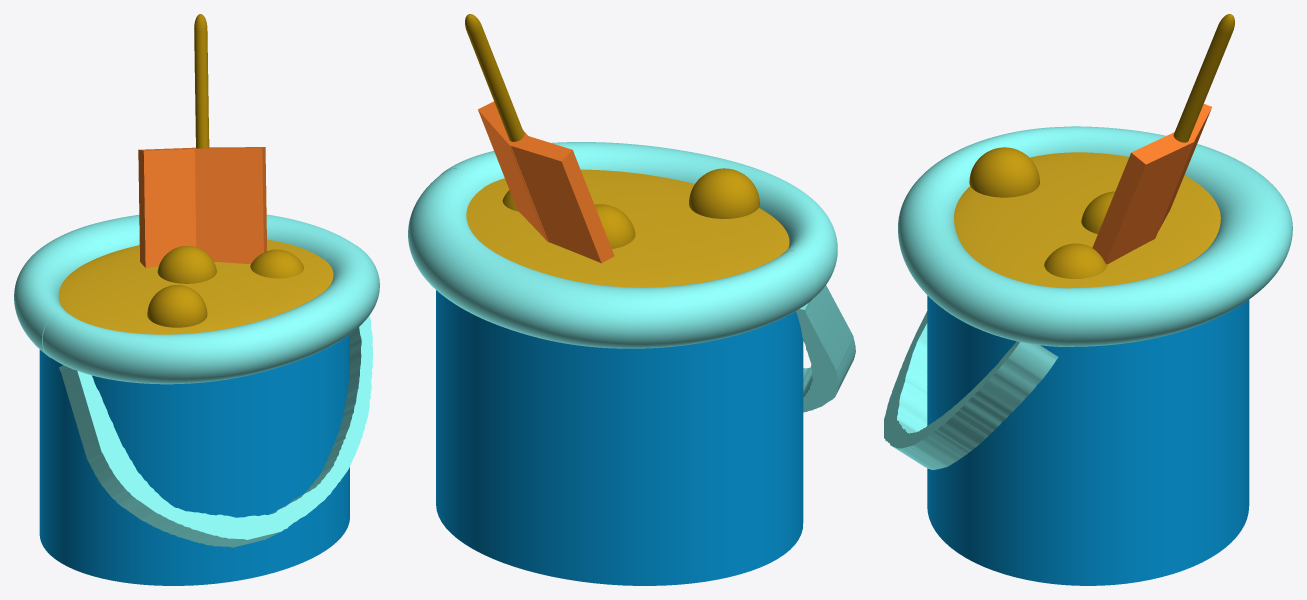
File: Beach_Sand_Bucket.glb
3 renders of one model, left to right at view 1: azimuth 30°, elevation 25°; view 2: azimuth 150°, elevation 25°; view 3: azimuth 270°, elevation 25°, orthographic. The views are drawn at different scales.
Visible parts, largest first — view 1: mesh_id27.002, mesh_id126.001, mesh_id129, mesh_id41.002, mesh_id178, mesh_id35.002, mesh_id172, mesh_id90.001, mesh_id84.001, mesh_id131, mesh_id155, mesh_id148 (+1 smaller); view 2: mesh_id27.002, mesh_id129, mesh_id90.001, mesh_id84.001, mesh_id172, mesh_id35.002, mesh_id41.002, mesh_id126.001, mesh_id131, mesh_id178, mesh_id155, mesh_id148; view 3: mesh_id27.002, mesh_id129, mesh_id84.001, mesh_id35.002, mesh_id126.001, mesh_id178, mesh_id90.001, mesh_id41.002, mesh_id131, mesh_id155, mesh_id137, mesh_id148 (+1 smaller).
Part boxes in pixels (left/top/right/bottom): mesh_id27.002: left=39, top=334, right=349, bottom=585; mesh_id126.001: left=59, top=315, right=372, bottom=547; mesh_id129: left=58, top=239, right=333, bottom=334; mesh_id41.002: left=42, top=313, right=261, bottom=384; mesh_id178: left=193, top=147, right=266, bottom=264; mesh_id35.002: left=244, top=243, right=379, bottom=373; mesh_id172: left=138, top=147, right=196, bottom=267; mesh_id90.001: left=14, top=222, right=123, bottom=357; mesh_id84.001: left=102, top=214, right=354, bottom=259; mesh_id131: left=147, top=285, right=207, bottom=327; mesh_id155: left=194, top=14, right=209, bottom=148; mesh_id148: left=157, top=246, right=216, bottom=283; mesh_id27.002: left=436, top=290, right=803, bottom=585; mesh_id129: left=466, top=169, right=789, bottom=287; mesh_id90.001: left=533, top=250, right=817, bottom=348; mesh_id84.001: left=408, top=168, right=561, bottom=338; mesh_id172: left=509, top=136, right=614, bottom=263; mesh_id35.002: left=440, top=142, right=722, bottom=187; mesh_id41.002: left=710, top=159, right=837, bottom=297; mesh_id126.001: left=796, top=285, right=855, bottom=412; mesh_id131: left=689, top=168, right=759, bottom=218; mesh_id178: left=478, top=101, right=548, bottom=242; mesh_id155: left=465, top=14, right=524, bottom=141; mesh_id148: left=594, top=204, right=635, bottom=248; mesh_id27.002: left=927, top=295, right=1249, bottom=585; mesh_id129: left=954, top=152, right=1220, bottom=288; mesh_id84.001: left=1071, top=201, right=1292, bottom=346; mesh_id35.002: left=898, top=201, right=1070, bottom=346; mesh_id126.001: left=884, top=311, right=1058, bottom=469; mesh_id178: left=1092, top=132, right=1194, bottom=264; mesh_id90.001: left=1071, top=126, right=1292, bottom=223; mesh_id41.002: left=898, top=126, right=1070, bottom=224; mesh_id131: left=969, top=147, right=1039, bottom=197; mesh_id155: left=1173, top=14, right=1234, bottom=142; mesh_id137: left=1044, top=243, right=1107, bottom=278; mesh_id148: left=1081, top=191, right=1114, bottom=233.
Size of the model in its own units: 0.6374 by 0.8491 by 0.5941.
13 materials, 13 textured.
